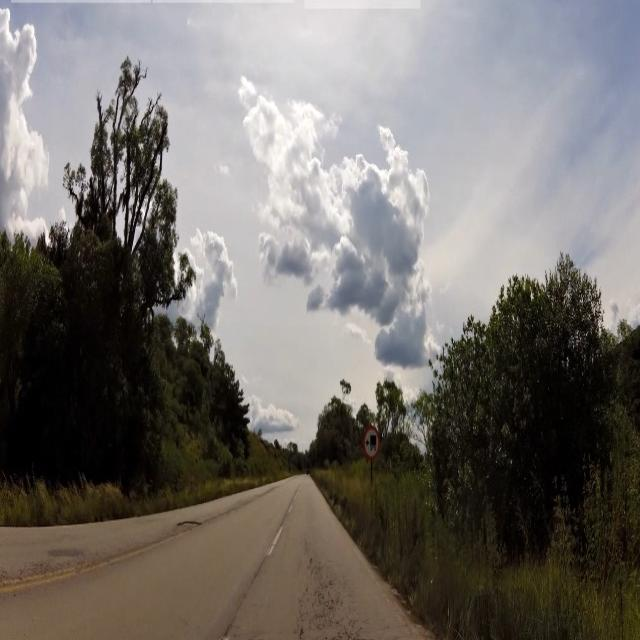R-7: (362, 426, 382, 458)
